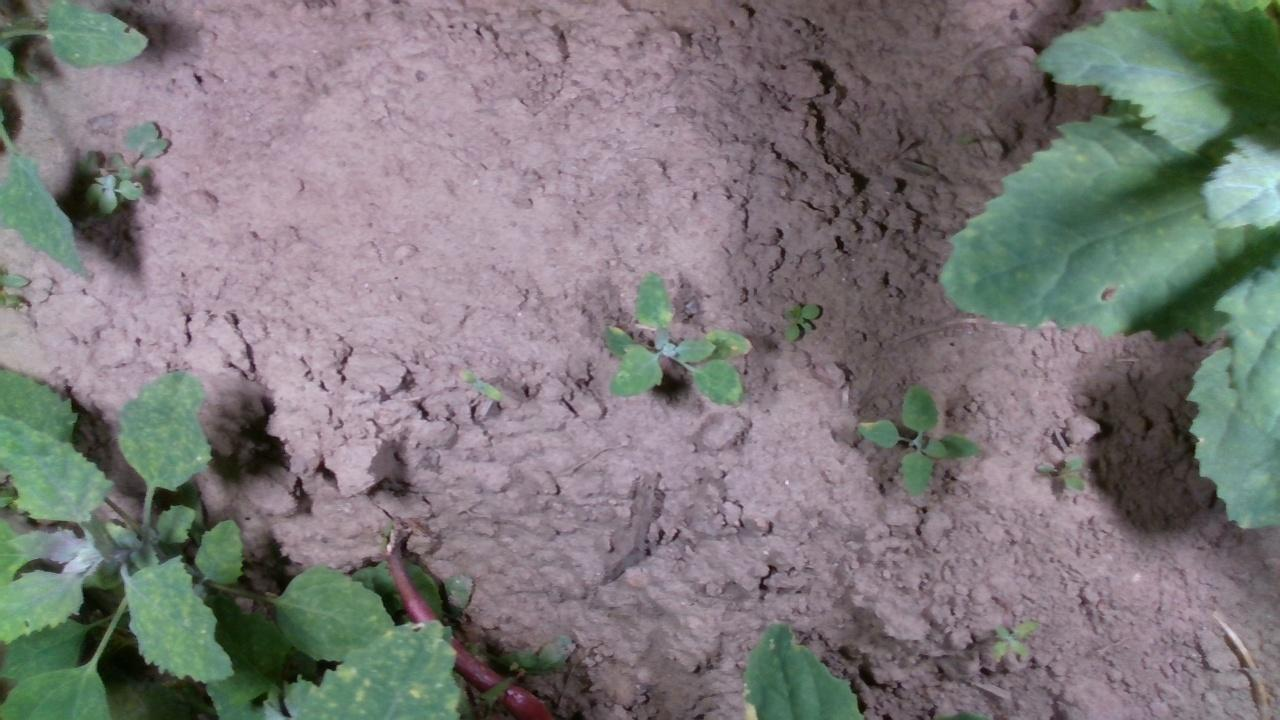weed: (778, 297, 814, 345)
